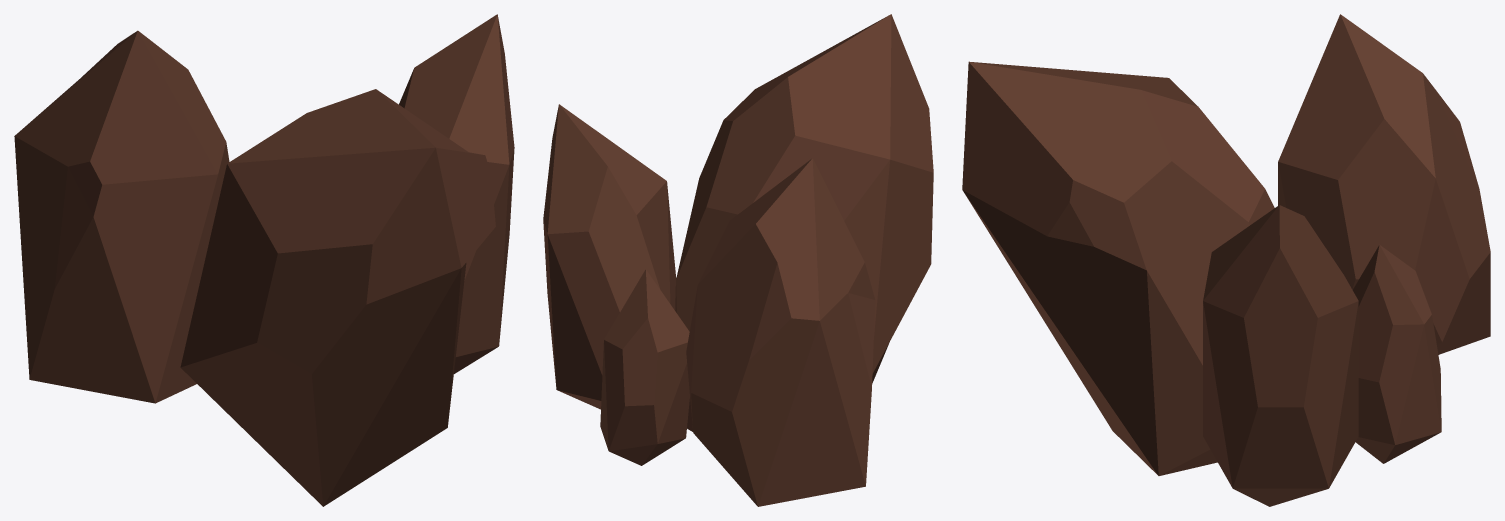
The model's file is IronRock2.glb.
3 renders of one model, left to right at view 1: azimuth 30°, elevation 25°; view 2: azimuth 150°, elevation 25°; view 3: azimuth 270°, elevation 25°, orthographic. The views are drawn at different scales.
Parts seen in each view (by area): view 1: IronRock2; view 2: IronRock2; view 3: IronRock2.
Part boxes in pixels (bbox=[...]): IronRock2: bbox=[14, 14, 514, 506]; IronRock2: bbox=[543, 14, 933, 506]; IronRock2: bbox=[962, 14, 1490, 506].
Size of the model in its own units: 0.8324 by 0.7668 by 0.95.
